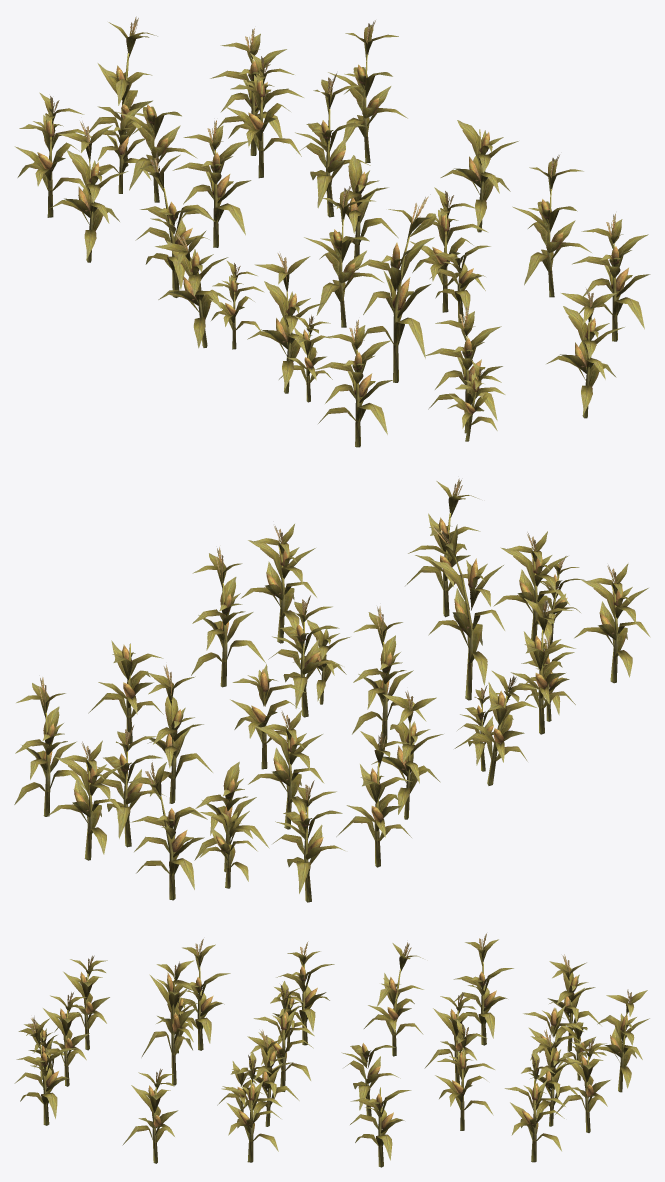
The model's file is S_Plant_Yellow001.FBX.
3 views of the same model, one above another, from view 1: azimuth 30°, elevation 25°; view 2: azimuth 150°, elevation 25°; view 3: azimuth 270°, elevation 25° (orthographic). The views are drawn at different scales.
Parts seen in each view (by area): view 1: S_Plant_Yellow001; view 2: S_Plant_Yellow001; view 3: S_Plant_Yellow001.
Part boxes in pixels (left/top/right/bottom): S_Plant_Yellow001: left=14, top=16, right=650, bottom=447; S_Plant_Yellow001: left=14, top=478, right=650, bottom=902; S_Plant_Yellow001: left=14, top=933, right=649, bottom=1167.
Size of the model in its own units: 919 by 1637 by 389.
